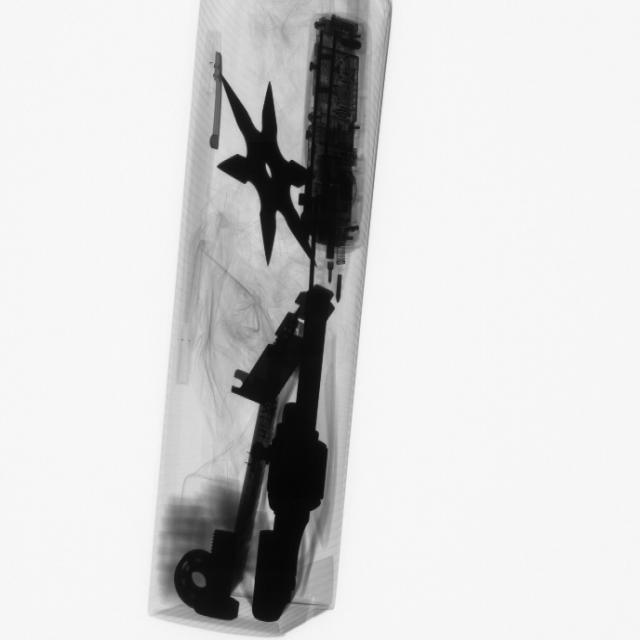GUN: (264, 284, 336, 623)
SHURIKEN: (219, 71, 316, 272)
